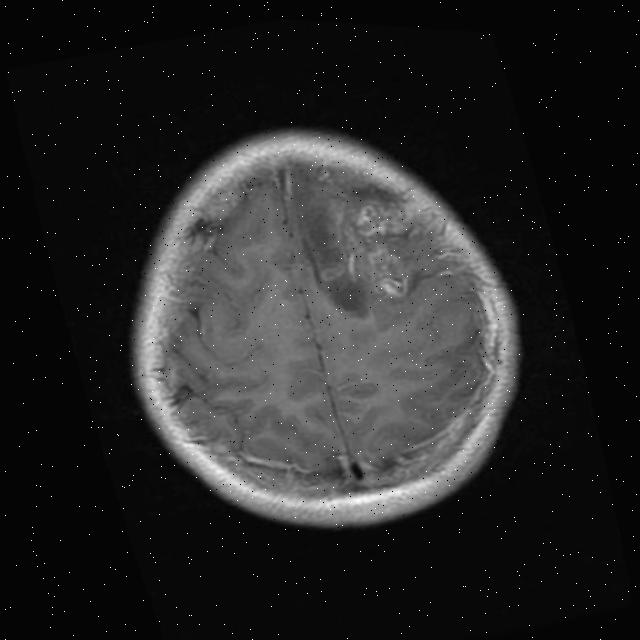Glioma: (330, 184, 439, 314), (317, 258, 350, 284)
